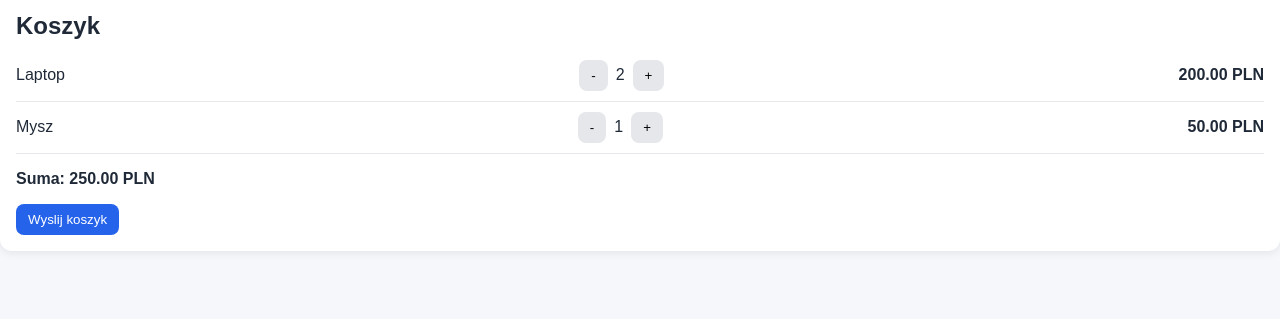
Scenario: Koszyk › pokazuje domyslna wiadomosc gdy API nie zwraca message
Click the button "Wyslij koszyk" at point(68, 219), box [16,204,119,235]
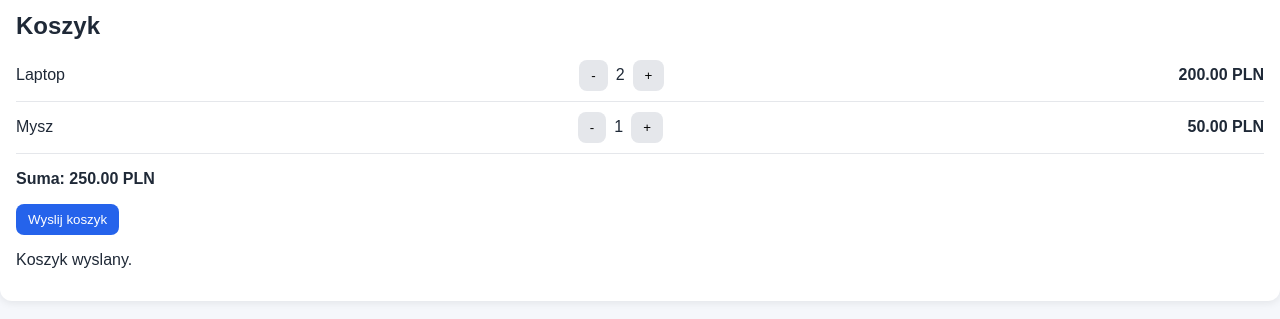
Check: the text "Koszyk wyslany." is shown, box [16,251,132,268]
